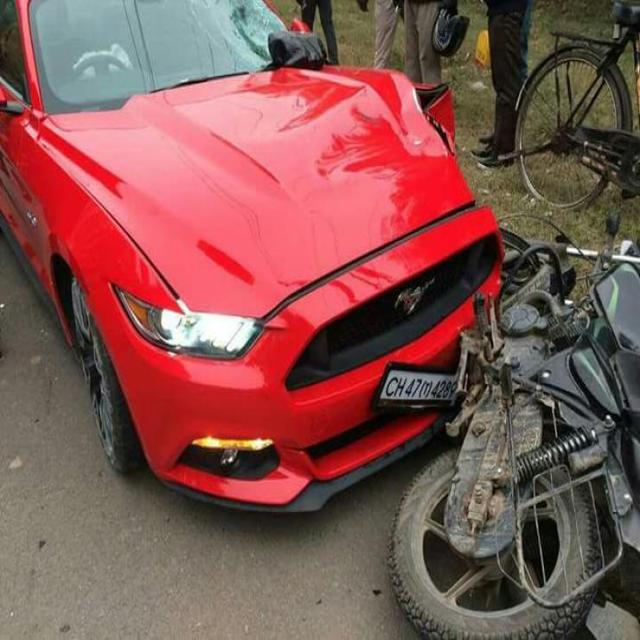accident: (0, 0, 501, 511), (390, 232, 640, 638)
